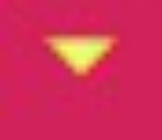ImgButton: (1, 1, 161, 139)
